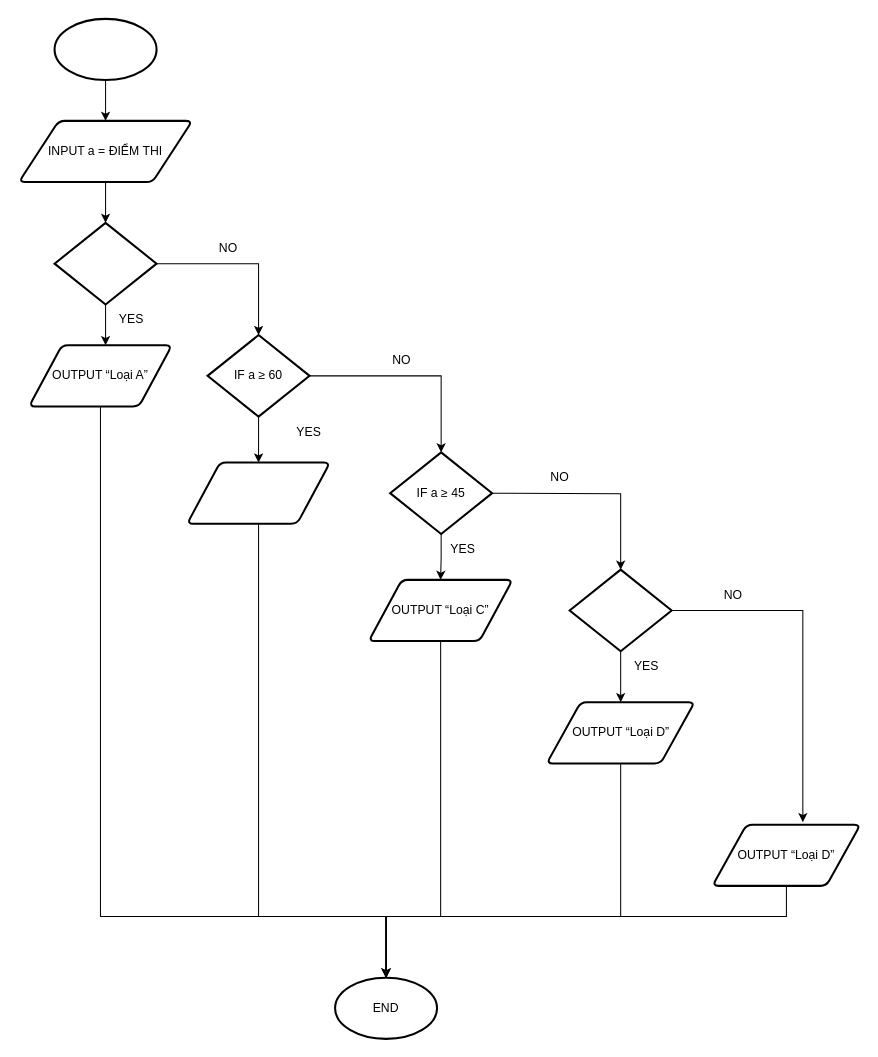
The diagram is 878 pixels wide and 1057 high, and some of its shapes have lost their labels. Each missing label, with the box of its shape:
IF a ≥ 30: (568, 568, 672, 652)
IF a ≥ 75: (53, 221, 157, 305)
OUTPUT “Loại B”: (186, 461, 330, 524)
START: (53, 17, 157, 81)
